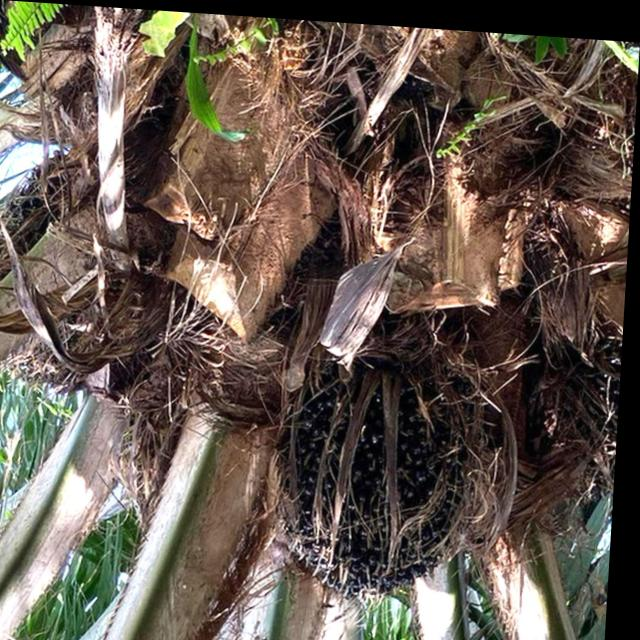unripe: (240, 334, 529, 622)
